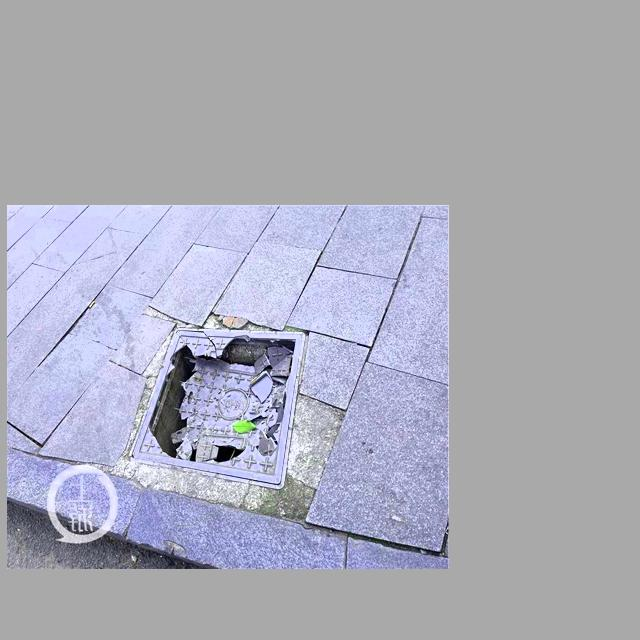broke: (108, 316, 321, 496)
